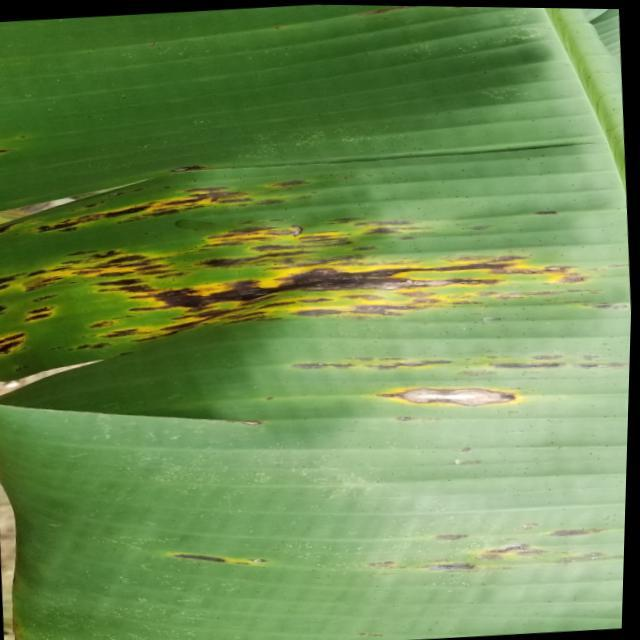Early_rust: (0, 145, 639, 468), (160, 495, 637, 613)
